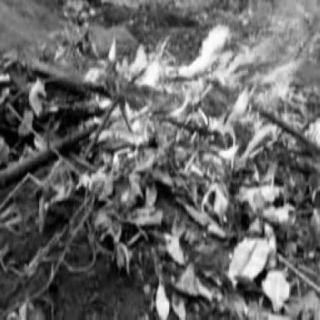Fire: (84, 0, 320, 182)
